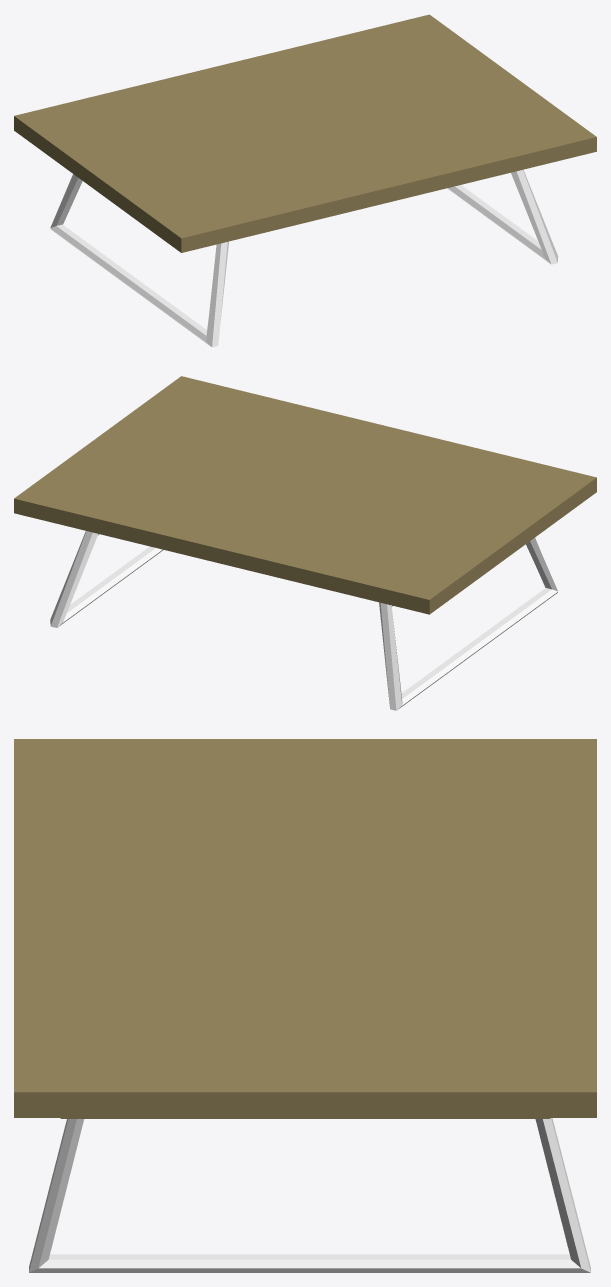
Rendered from BreakOut_CoffeeTable.fbx.
The picture shows the model from 3 angles, top to bottom: view 1: azimuth 30°, elevation 25°; view 2: azimuth 150°, elevation 25°; view 3: azimuth 270°, elevation 25°; orthographic projection. The views are drawn at different scales.
Parts seen in each view (by area): view 1: BreakOut_CoffeeTable; view 2: BreakOut_CoffeeTable; view 3: BreakOut_CoffeeTable.
Boxes of the visible parts, x1,y1,x2,y2 form: BreakOut_CoffeeTable: [14, 14, 596, 347]; BreakOut_CoffeeTable: [14, 376, 596, 710]; BreakOut_CoffeeTable: [14, 739, 596, 1272].
Bounding box in the file's own units: 159 × 44.06 × 111.
